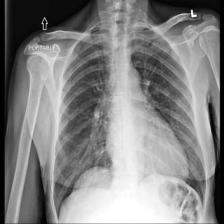normal: (48, 22, 210, 218)
